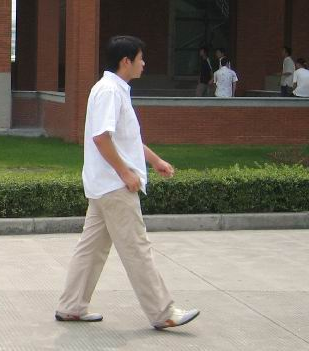pedestrian: (55, 36, 199, 330)
